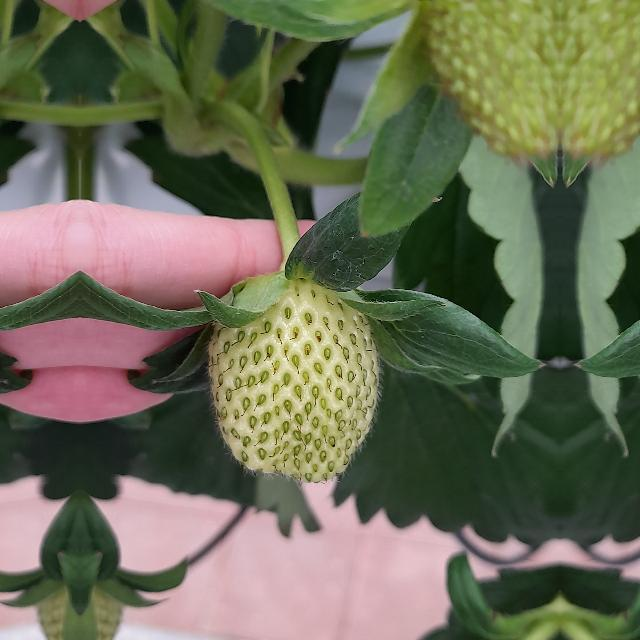Health_25: (208, 278, 378, 484)
